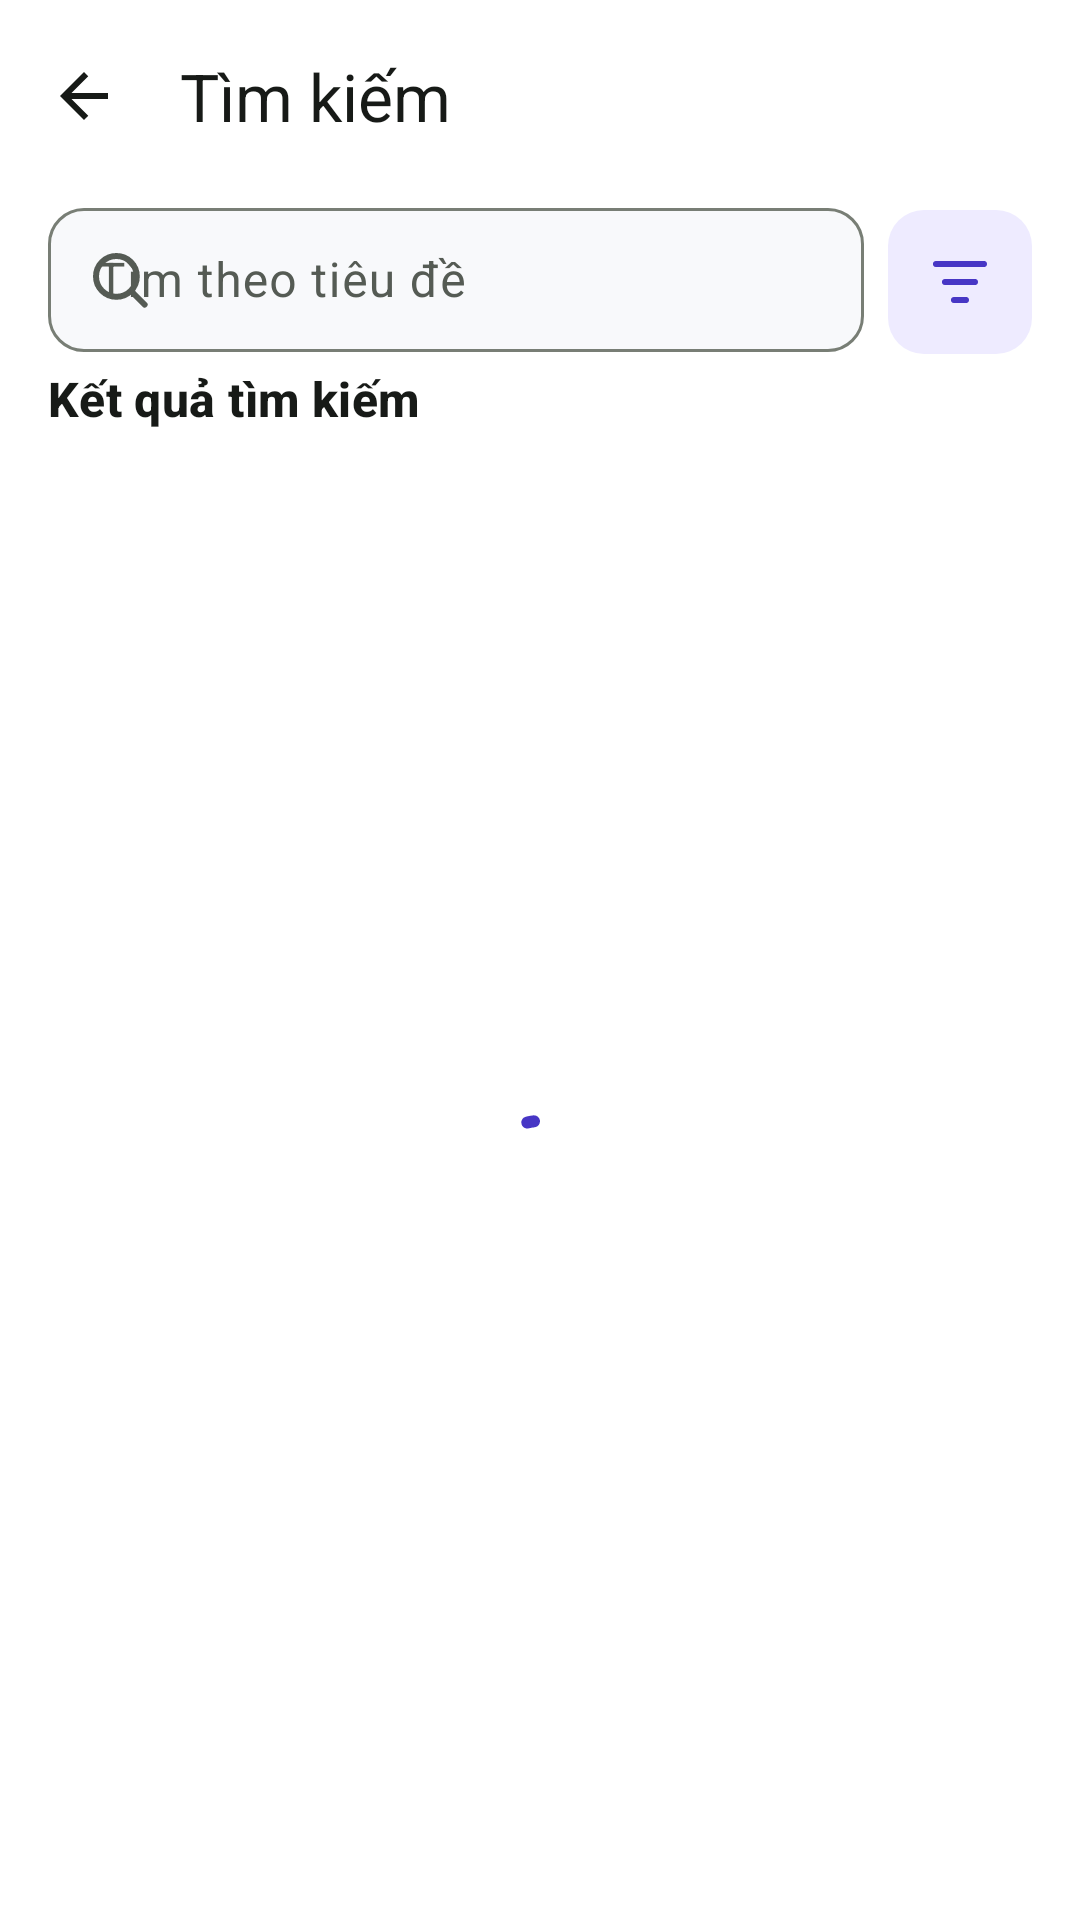

Screen size 1080 x 1920. Icon name, then its center in pixels as (x,y):
Bộ lọc công việc: (960,282)
